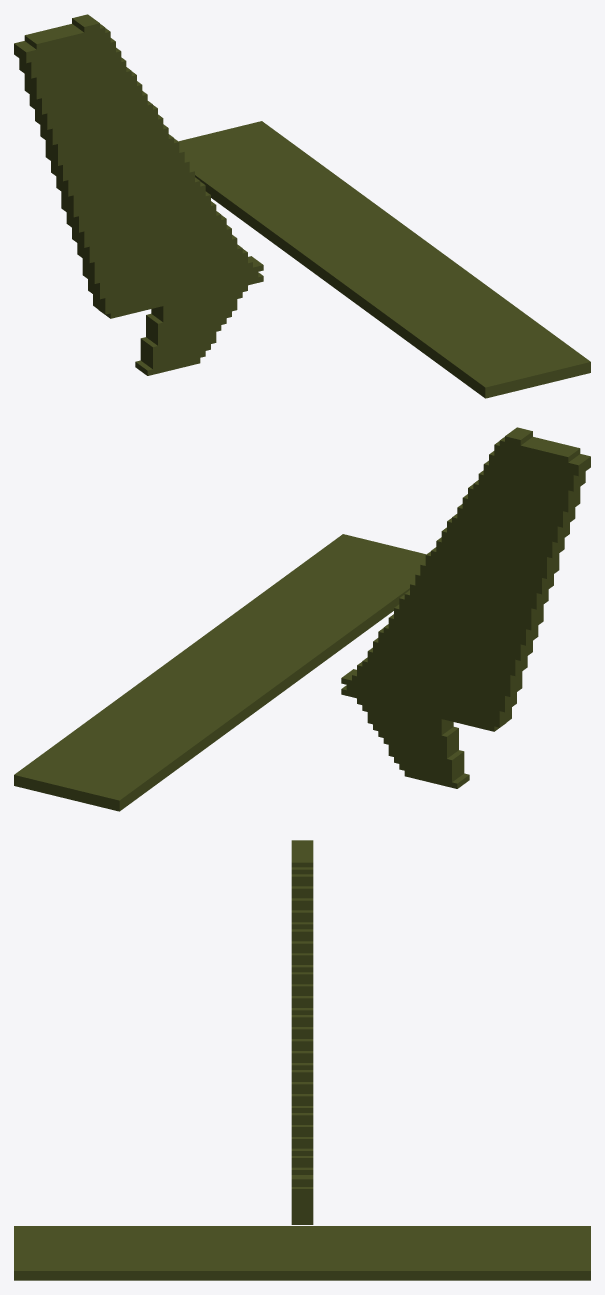
Rendered from military_transport_helicopter_tail_surfaces.glb.
3 views of the same model, one above another, from view 1: azimuth 30°, elevation 25°; view 2: azimuth 150°, elevation 25°; view 3: azimuth 270°, elevation 25° (orthographic). The views are drawn at different scales.
Visible parts, largest first — view 1: body:compound; view 2: body:compound; view 3: body:compound.
Boxes of the visible parts, x1,y1,x2,y2 form: body:compound: (14,14,590,398); body:compound: (14,427,590,811); body:compound: (14,840,590,1280).
Bounding box in the file's own units: 2.41 × 2.06 × 3.38.
